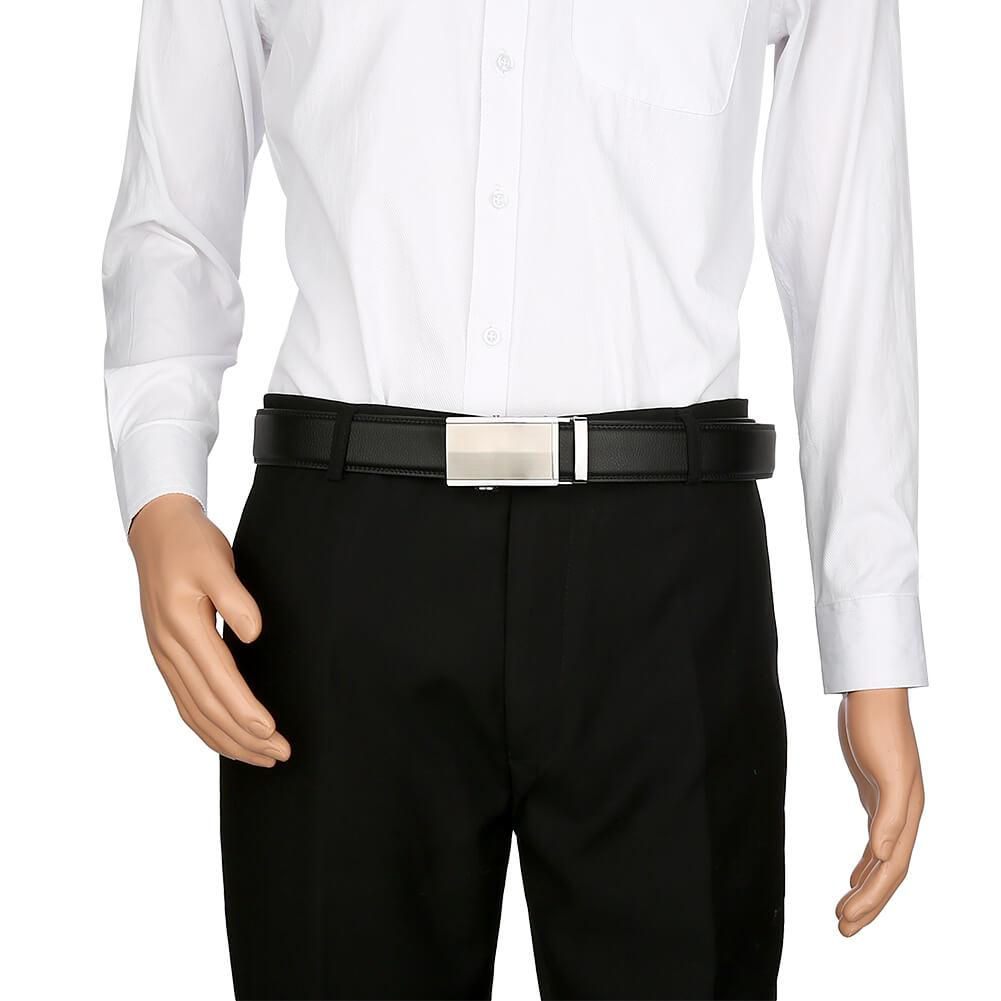F_belt: (232, 389, 785, 490)
F_dress pants: (209, 495, 798, 983)
F_shirt: (86, 1, 938, 692)
